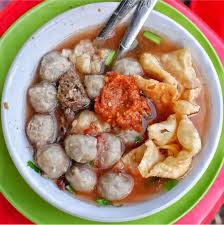bakso: (27, 43, 160, 207)
